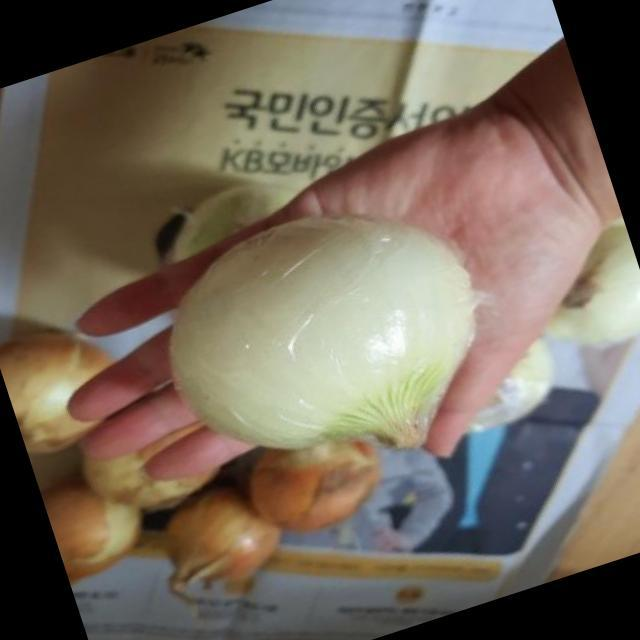Onion: (175, 212, 473, 454)
